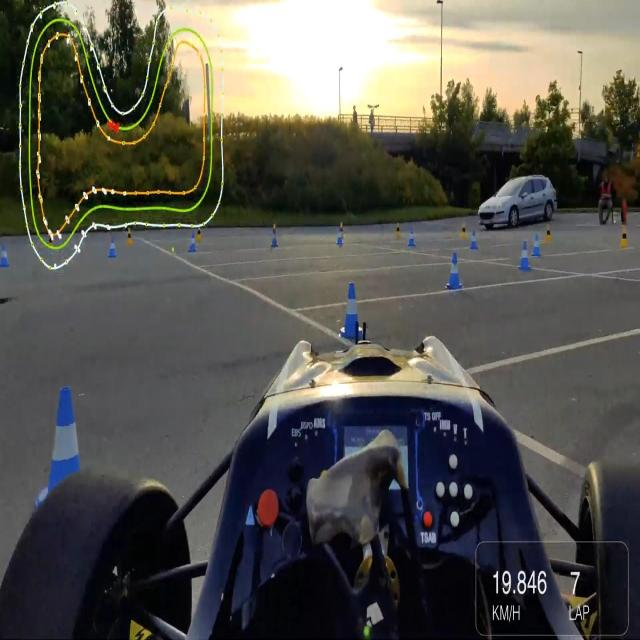blue_cone: (33, 387, 96, 521), (338, 278, 366, 340), (444, 249, 464, 292), (518, 239, 530, 271), (0, 241, 10, 268), (188, 230, 198, 255), (108, 233, 118, 258), (531, 233, 541, 257), (470, 227, 479, 252), (271, 226, 280, 249), (408, 226, 416, 250), (336, 226, 343, 249)
yellow_cone: (619, 224, 629, 251), (545, 221, 553, 245), (126, 225, 134, 248), (460, 218, 467, 244), (48, 229, 55, 255), (271, 222, 279, 243), (395, 220, 402, 240), (339, 221, 346, 241), (197, 222, 204, 242)
